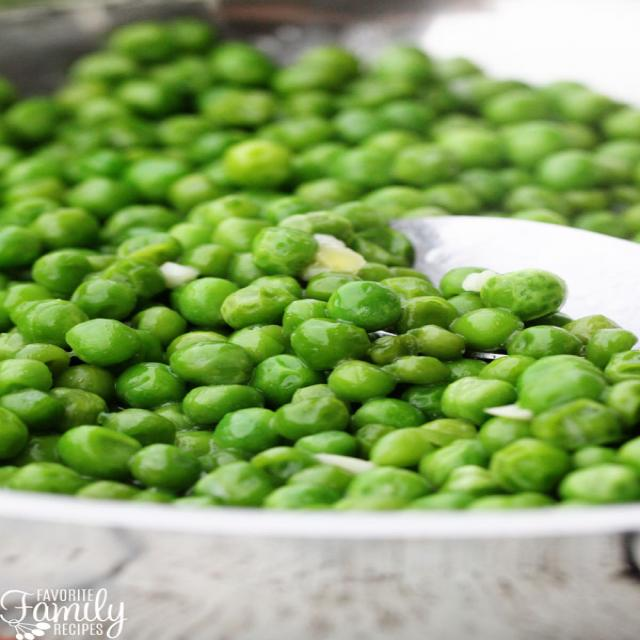pea: (0, 273, 640, 500)
